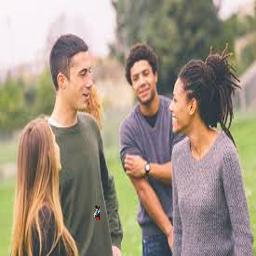Woodpecker: (91, 204, 101, 220)
